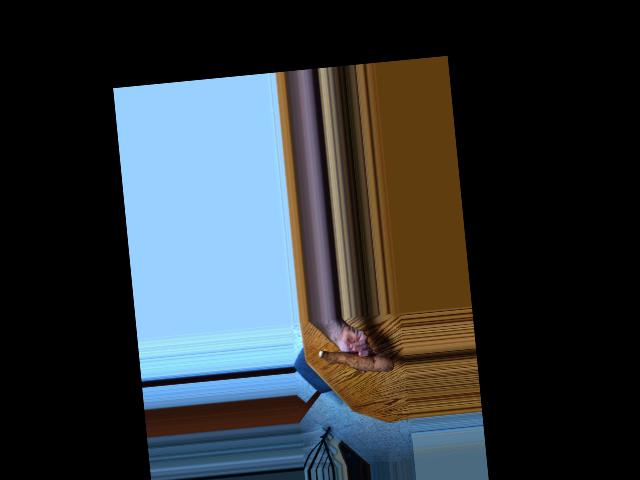sweet_potato: (318, 339, 392, 381)
